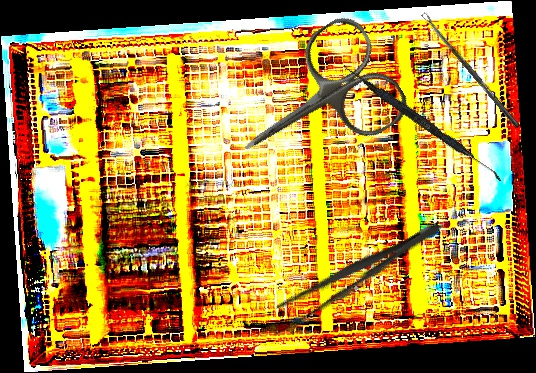Dressing Forceps: (262, 212, 447, 341)
Iris Scissors: (213, 9, 415, 198)
Spatula Surgical: (339, 63, 507, 182)
Surgical Spoon: (421, 11, 521, 129)
